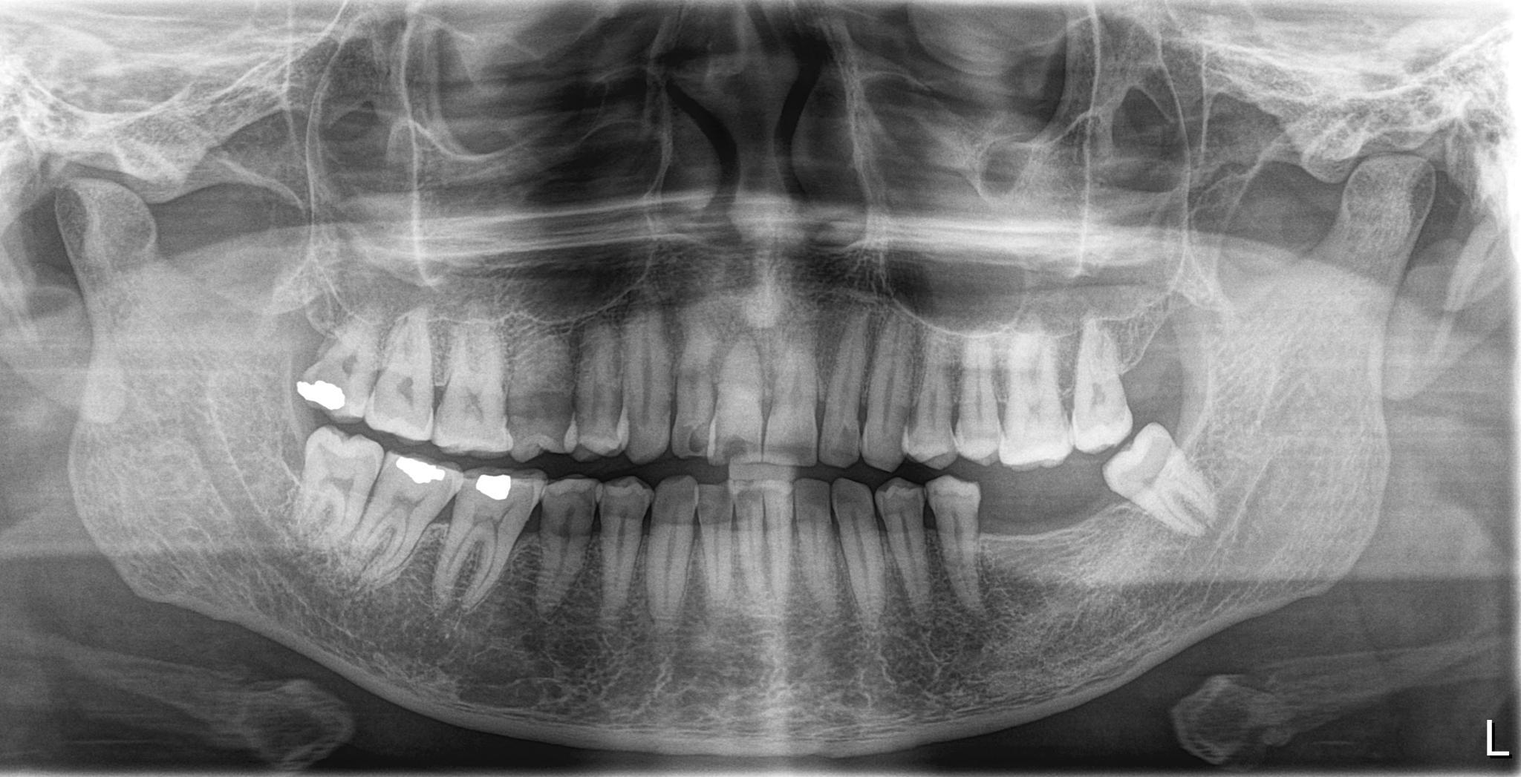Impacted Third Molar: (1103, 442, 1223, 520)
Missing Tooth: (984, 488, 1122, 592), (1129, 315, 1198, 416)
